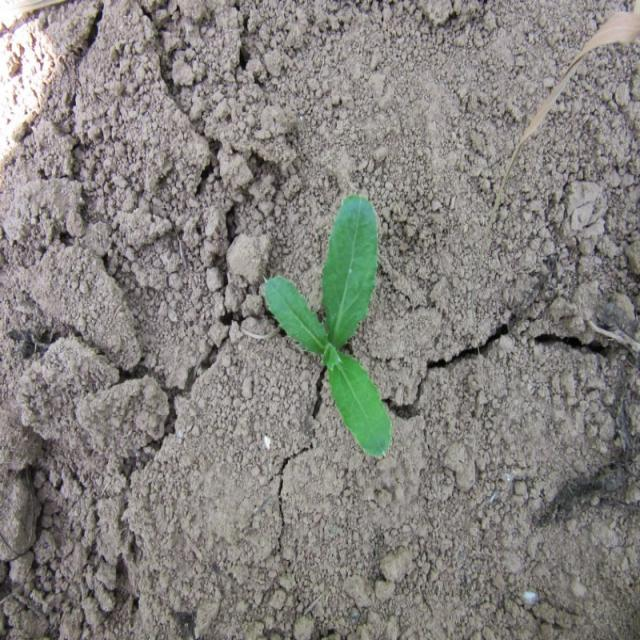field_thistle: (241, 177, 427, 456)
